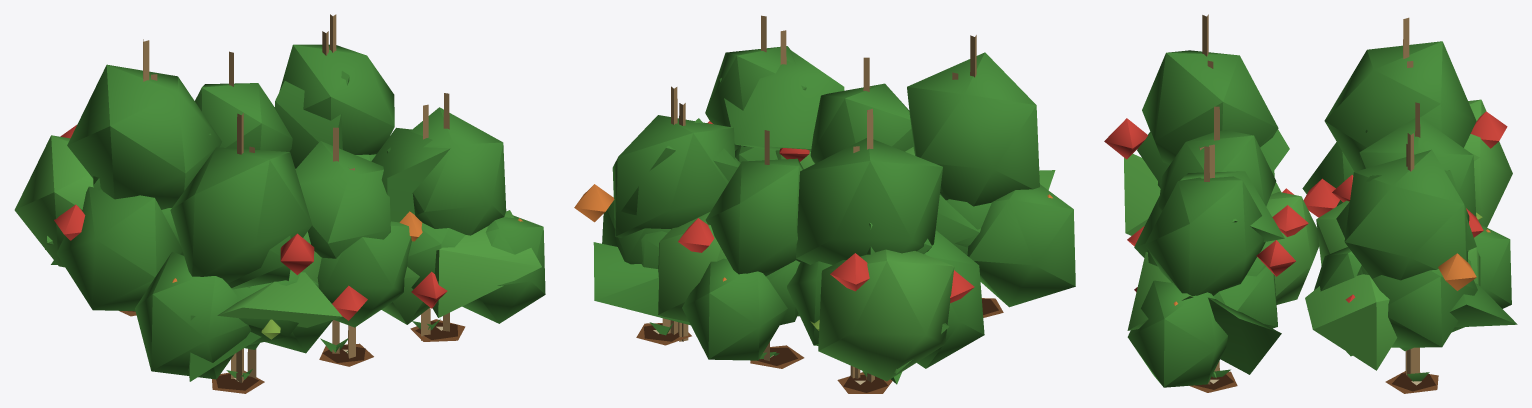
File: tomato.glb
The picture shows the model from 3 angles, left to right: view 1: azimuth 30°, elevation 25°; view 2: azimuth 150°, elevation 25°; view 3: azimuth 270°, elevation 25°; orthographic projection.
Parts seen in each view (by area): view 1: crop-tomato-3, crop-tomato-3-far, crop-tomato-2, crop-tomato-2-far, crop-tomato-0; view 2: crop-tomato-3, crop-tomato-3-far, crop-tomato-2-far, crop-tomato-2, crop-tomato-0; view 3: crop-tomato-3, crop-tomato-3-far, crop-tomato-2, crop-tomato-2-far, crop-tomato-0.
Boxes of the visible parts, x1=… form: crop-tomato-3: x1=14, y1=14, x2=545, y2=383; crop-tomato-3-far: x1=45, y1=31, x2=541, y2=381; crop-tomato-2: x1=231, y1=154, x2=411, y2=378; crop-tomato-2-far: x1=161, y1=208, x2=465, y2=378; crop-tomato-0: x1=119, y1=311, x2=465, y2=393; crop-tomato-3: x1=574, y1=15, x2=1075, y2=381; crop-tomato-3-far: x1=593, y1=30, x2=1055, y2=384; crop-tomato-2-far: x1=641, y1=153, x2=980, y2=378; crop-tomato-2: x1=602, y1=87, x2=991, y2=382; crop-tomato-0: x1=636, y1=298, x2=1003, y2=393; crop-tomato-3: x1=1104, y1=14, x2=1512, y2=387; crop-tomato-3-far: x1=1124, y1=60, x2=1517, y2=374; crop-tomato-2: x1=1134, y1=146, x2=1482, y2=381; crop-tomato-2-far: x1=1147, y1=171, x2=1471, y2=375; crop-tomato-0: x1=1189, y1=371, x2=1438, y2=393.
Bounding box in the file's own units: 1.94 × 1.34 × 1.84.
